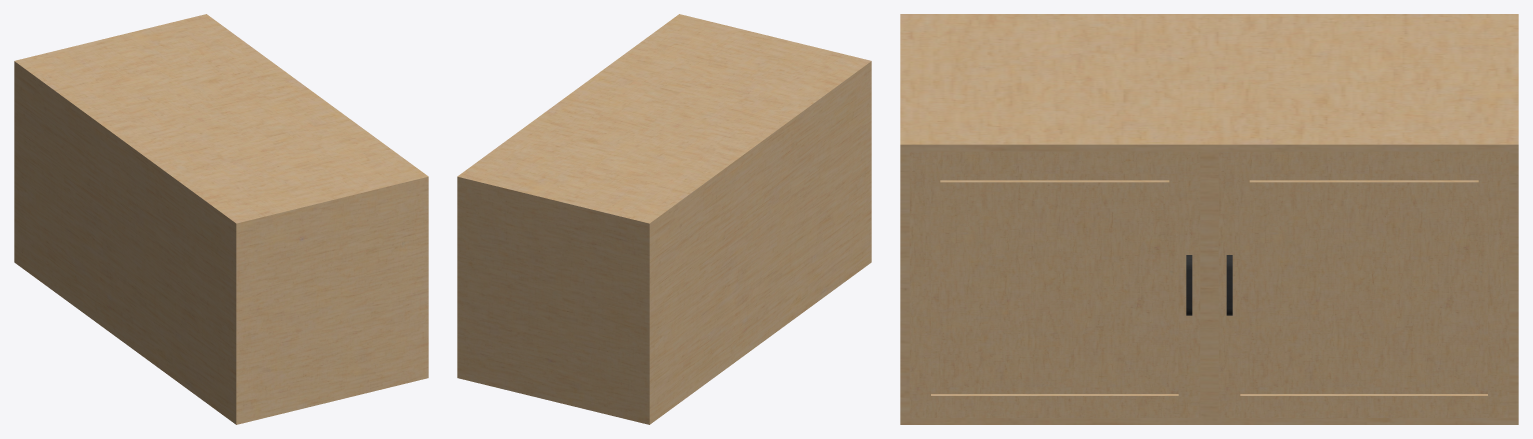
File: wall_cabinet.obj
3 views of the same model, side by side, from view 1: azimuth 30°, elevation 25°; view 2: azimuth 150°, elevation 25°; view 3: azimuth 270°, elevation 25° (orthographic). The views are drawn at different scales.
Parts seen in each view (by area): view 1: wall_cabinet; view 2: wall_cabinet; view 3: wall_cabinet, hatch_1, hatch_2.
Boxes of the visible parts, x1,y1,x2,y2 form: wall_cabinet: (14,14,428,424); wall_cabinet: (457,14,871,424); wall_cabinet: (900,14,1518,424); hatch_1: (909,151,1200,417); hatch_2: (1218,151,1509,417).
Bounding box in the file's own units: 1.03 × 1 × 2.
Materials: 2 (2 with a texture image).
